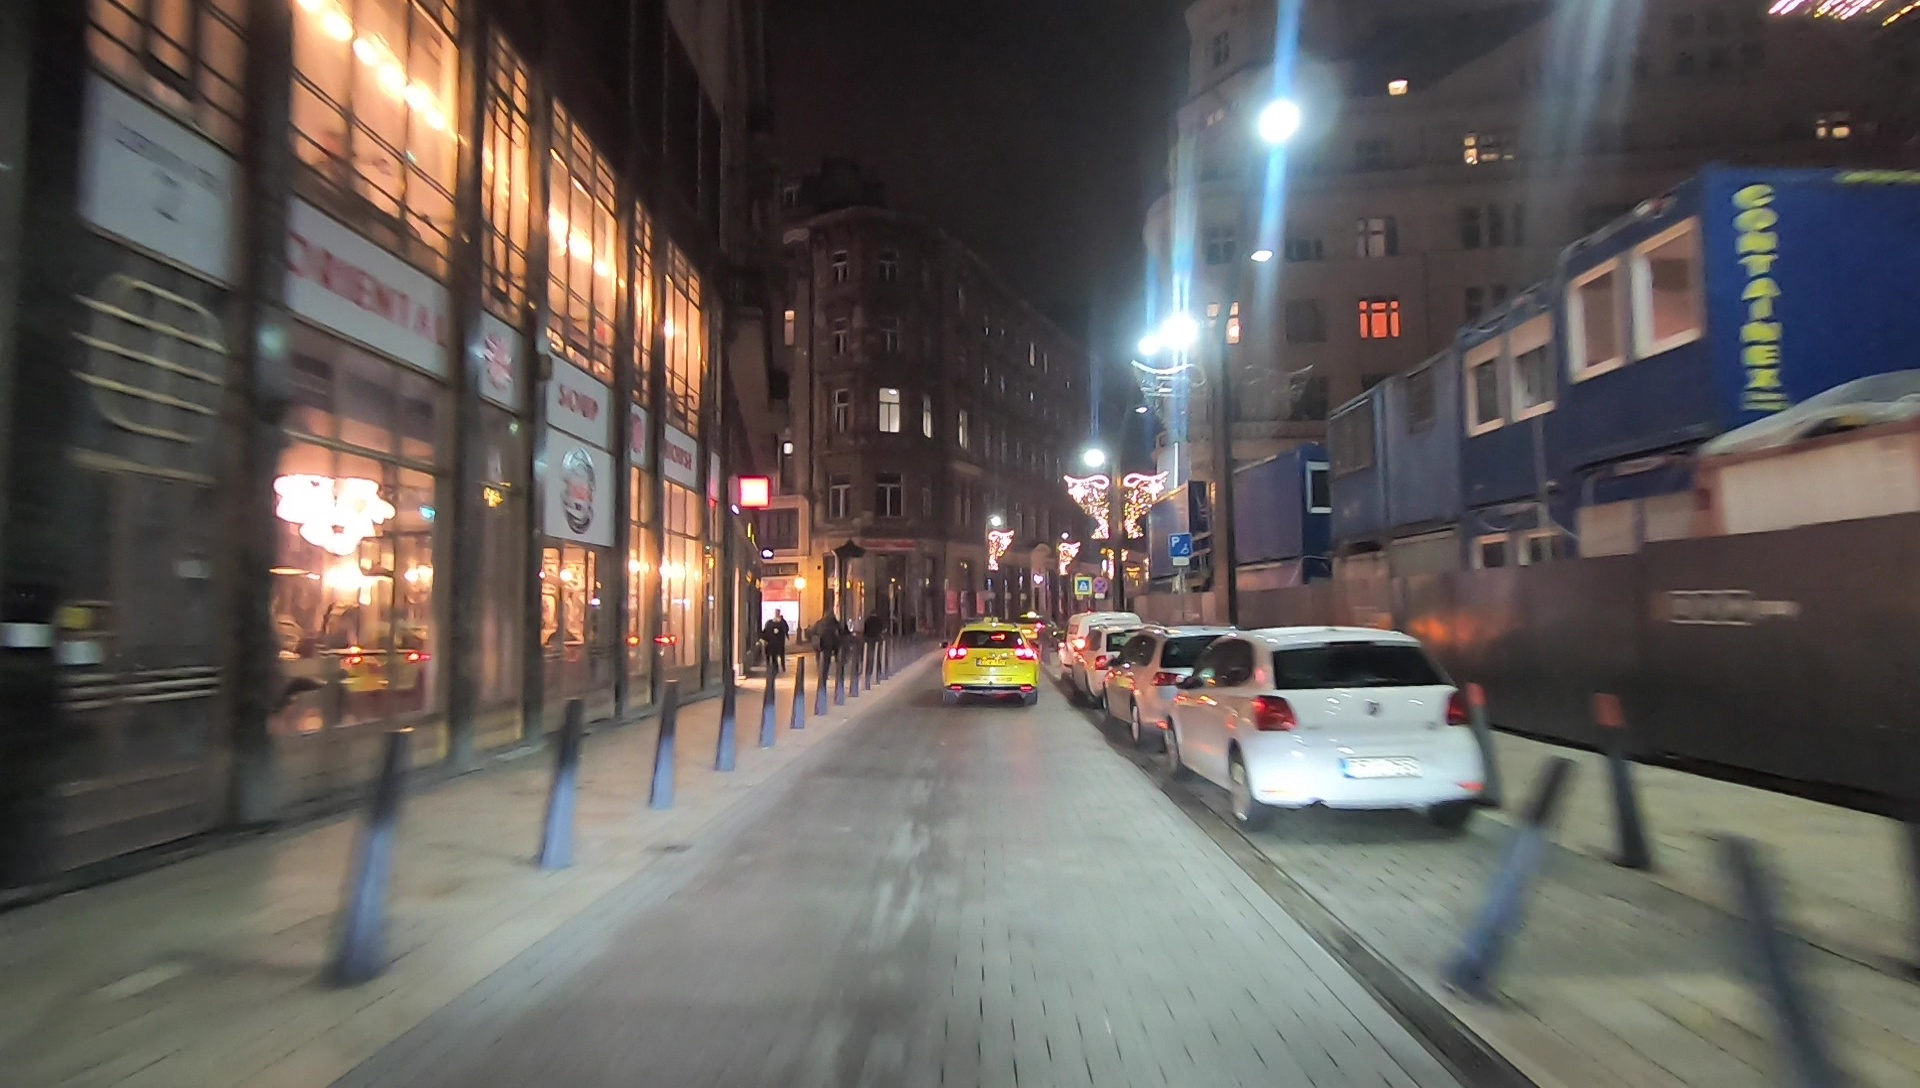person: (764, 609, 788, 669), (864, 611, 881, 662)
